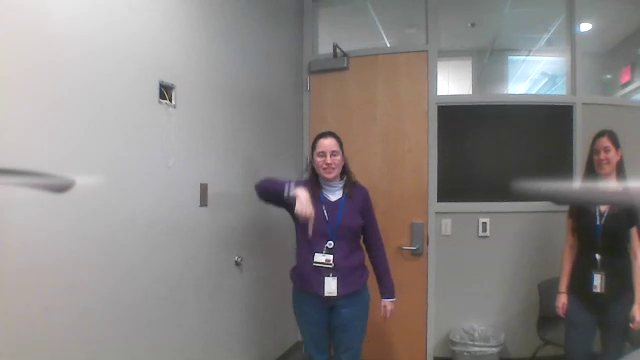down: (291, 183, 318, 242)
